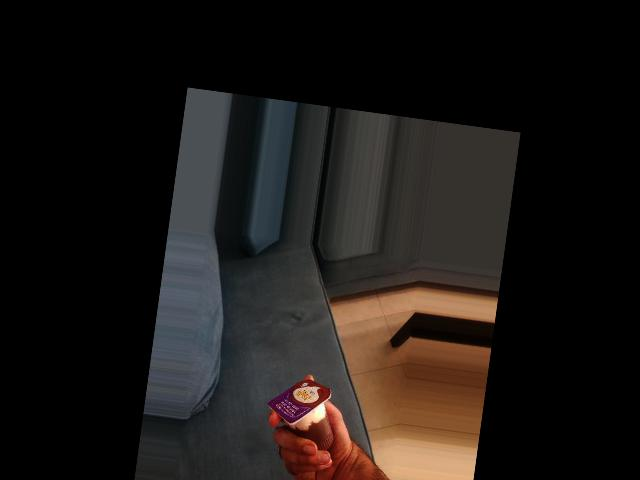milky: (195, 320, 280, 397)
